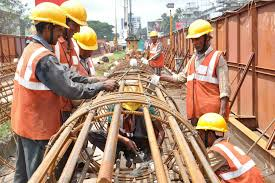arm: (39, 57, 121, 98), (215, 54, 231, 115), (157, 56, 192, 83), (204, 146, 226, 181), (140, 42, 162, 65), (183, 80, 194, 122)
face: (41, 23, 69, 46), (189, 34, 208, 51), (149, 34, 158, 43)
glove: (101, 75, 119, 90)
goggle: (43, 25, 65, 35)
helmet: (194, 109, 229, 134), (59, 0, 90, 26), (71, 25, 98, 52), (185, 17, 214, 40), (147, 28, 159, 40)
human: (3, 1, 88, 182), (191, 109, 270, 182), (178, 15, 230, 123), (141, 27, 167, 89)
leg: (11, 136, 39, 183)
noglove: (219, 96, 230, 113)
nogoggle: (190, 36, 206, 44)
vest: (9, 40, 69, 136), (185, 47, 221, 114), (212, 140, 262, 181), (146, 39, 163, 66)
